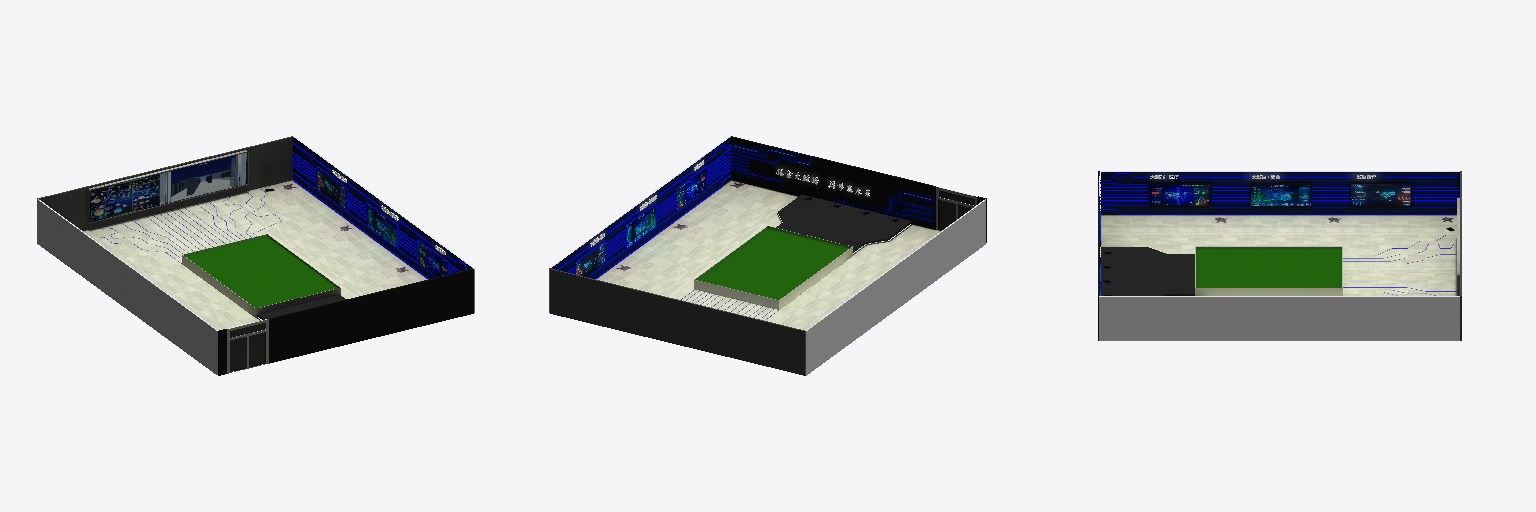
3 views of the same model, side by side, from view 1: azimuth 30°, elevation 25°; view 2: azimuth 150°, elevation 25°; view 3: azimuth 270°, elevation 25° (orthographic).
Parts seen in each view (by area): view 1: ____03, ____10, ____05, ____11, ____01, ____09, ____06, ____04, Rectangle05, ____08; view 2: ____03, ____11, ____09, ____10, ____05, ____06, Rectangle05, ____08, ____04; view 3: ____03, ____06, ____11, ____05, Rectangle01, ____07.
Part boxes in pixels (left/top/right/bottom): ____03: left=83, top=180, right=427, bottom=330; ____10: left=218, top=269, right=473, bottom=375; ____05: left=37, top=199, right=217, bottom=374; ____11: left=182, top=234, right=345, bottom=320; ____01: left=88, top=150, right=248, bottom=223; ____09: left=37, top=136, right=292, bottom=230; ____06: left=293, top=137, right=474, bottom=312; ____04: left=227, top=319, right=268, bottom=373; Rectangle05: left=317, top=168, right=446, bottom=276; ____08: left=292, top=143, right=466, bottom=278; ____03: left=596, top=180, right=940, bottom=330; ____11: left=694, top=195, right=912, bottom=309; ____09: left=550, top=268, right=804, bottom=375; ____10: left=730, top=136, right=986, bottom=242; ____05: left=805, top=199, right=985, bottom=375; ____06: left=549, top=136, right=730, bottom=312; Rectangle05: left=576, top=169, right=705, bottom=276; ____08: left=557, top=144, right=731, bottom=278; ____04: left=936, top=186, right=977, bottom=230; ____03: left=1101, top=215, right=1456, bottom=295; ____06: left=1099, top=296, right=1459, bottom=340; ____11: left=1101, top=246, right=1342, bottom=295; ____05: left=1101, top=171, right=1459, bottom=214; Rectangle01: left=1150, top=184, right=1410, bottom=205; ____07: left=1100, top=173, right=1459, bottom=214.
Bounding box in the file's own units: 1816 × 300 × 2217.
Materials: 12 (12 with a texture image).